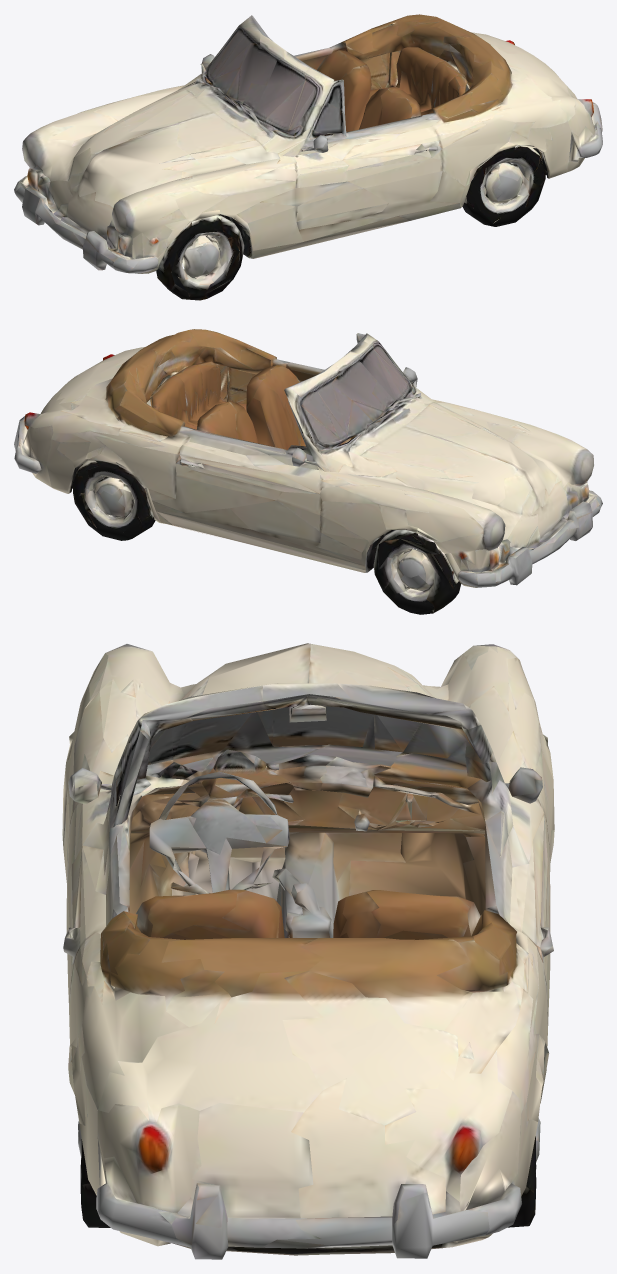
The model's file is getkong-auto4.glb.
The picture shows the model from 3 angles, top to bottom: view 1: azimuth 30°, elevation 25°; view 2: azimuth 150°, elevation 25°; view 3: azimuth 270°, elevation 25°; orthographic projection. The views are drawn at different scales.
Visible parts, largest first — view 1: output_unwrapped; view 2: output_unwrapped; view 3: output_unwrapped.
Boxes of the visible parts, left/top/right/bottom form: output_unwrapped: left=14, top=14, right=602, bottom=300; output_unwrapped: left=14, top=329, right=602, bottom=614; output_unwrapped: left=62, top=643, right=554, bottom=1259.
Size of the model in its own units: 1.9 by 0.6463 by 0.7859.
1 material, 1 textured.
